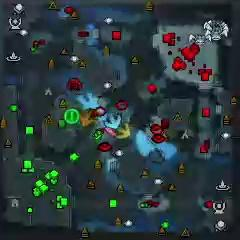x1: (105, 128, 116, 137)
x2: (115, 122, 131, 139)
x3: (105, 113, 123, 129)
x5: (79, 110, 95, 127)
